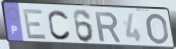4: (124, 12, 143, 45)
6: (72, 8, 95, 44)
C: (47, 9, 72, 42)
E: (22, 8, 48, 41)
O: (145, 12, 170, 46)
R: (94, 10, 122, 43)
